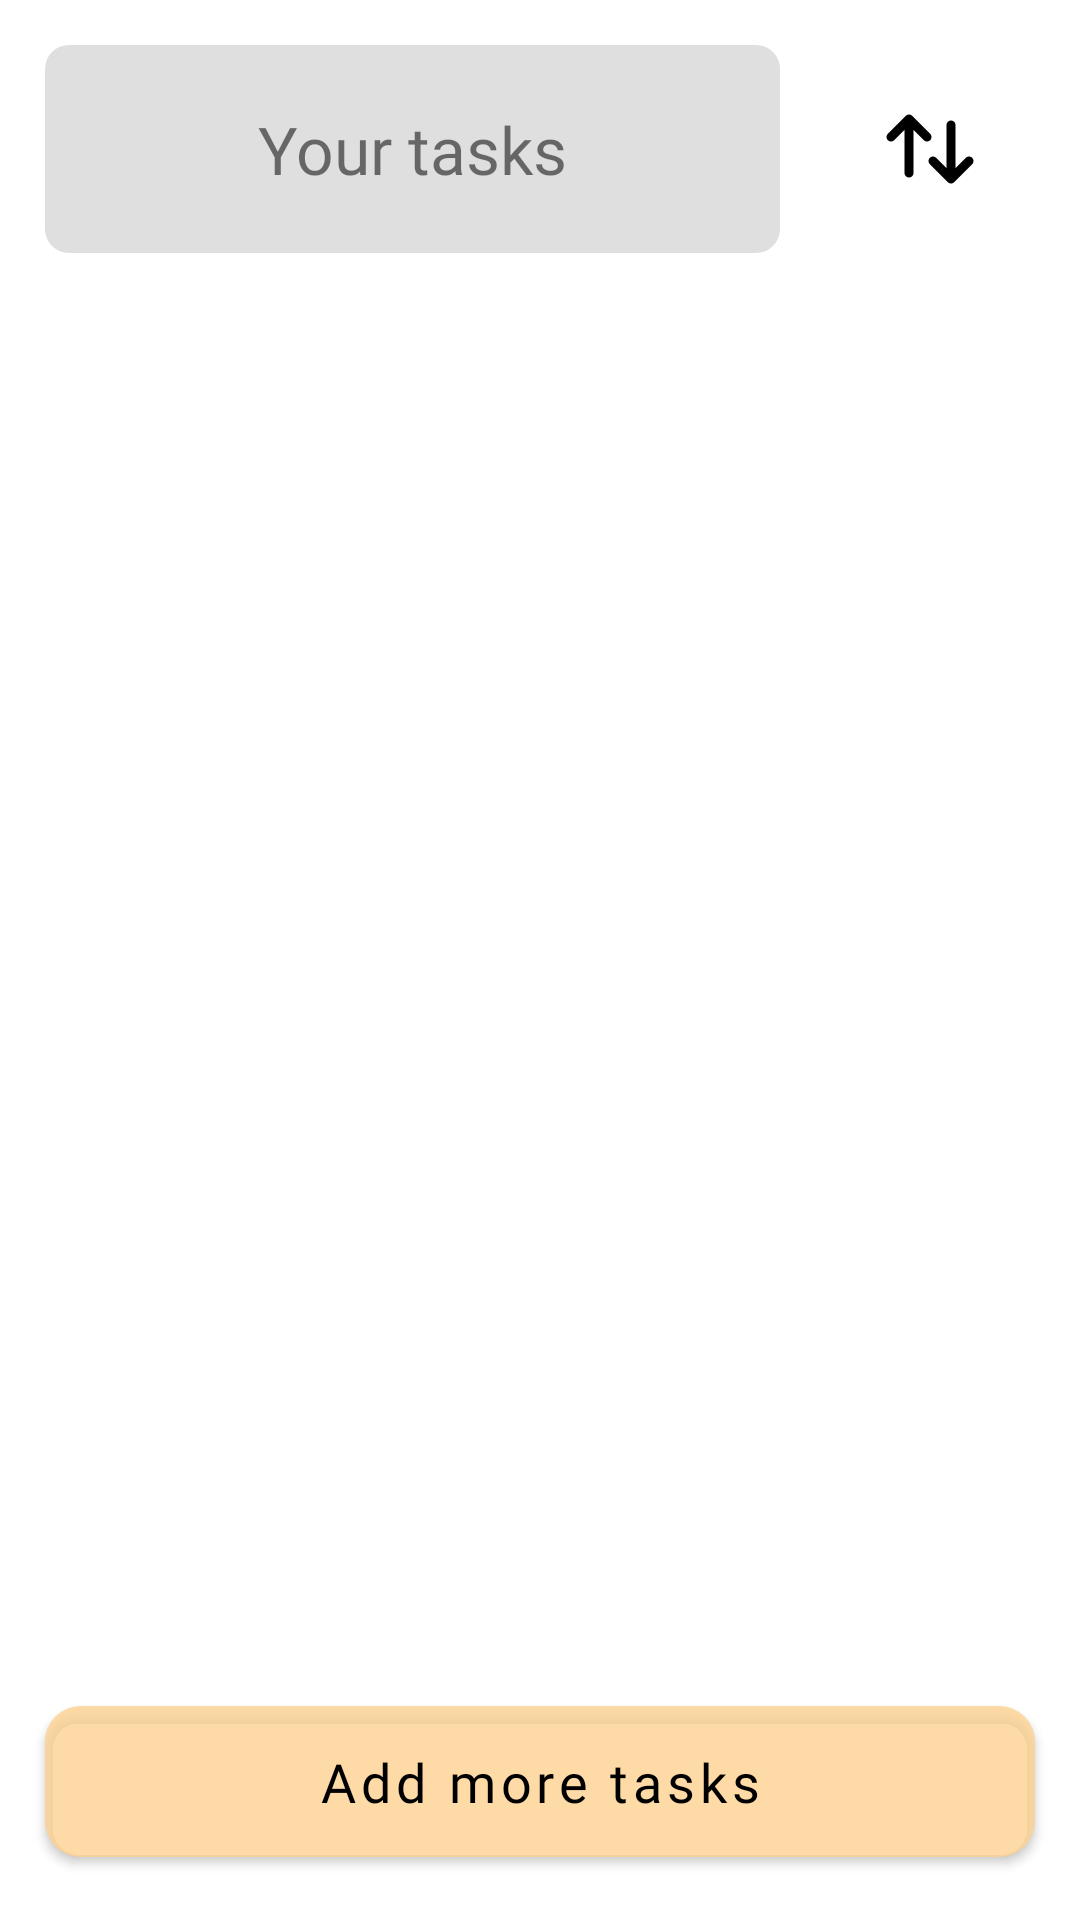

Icons on this 1080px×1920px Android screen, each with its box as (x1, y1, x2, y2):
sort: (886, 114, 974, 184)
